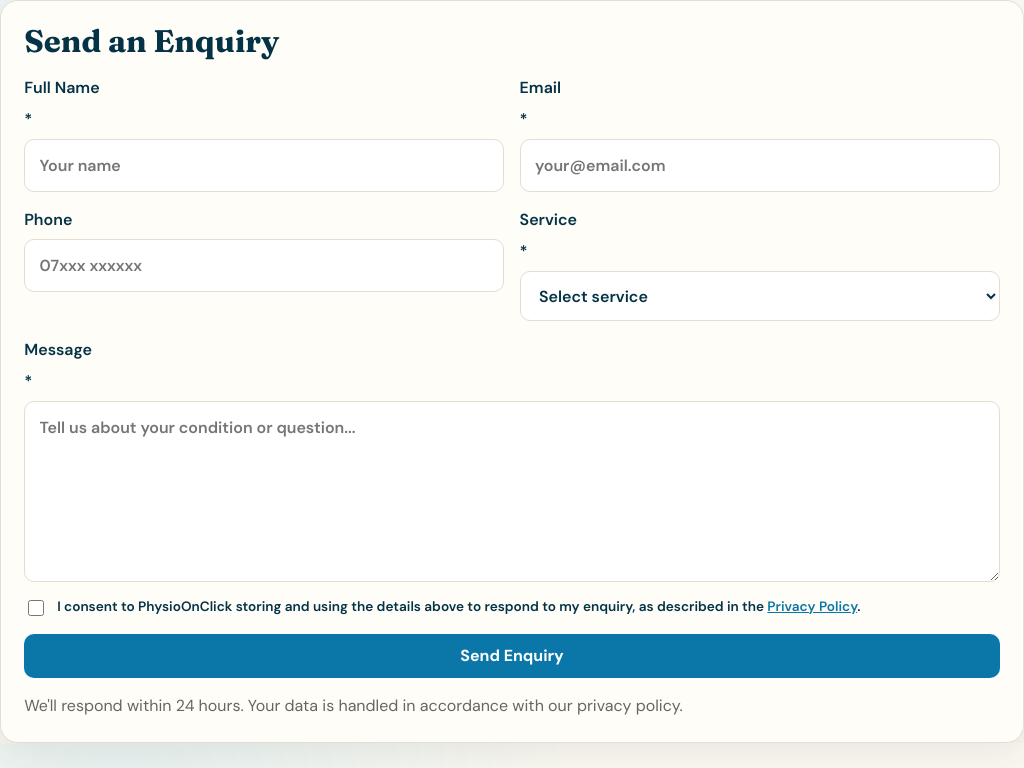
ContactForm › shows email success when the API sends the notification
In the field with placeholder "Your name": (264, 165) x1=24 y1=139 x2=504 y2=192, type "Test Patient"
In the field with placeholder "your@email.com": (760, 165) x1=520 y1=139 x2=1000 y2=192, type "patient@example.com"
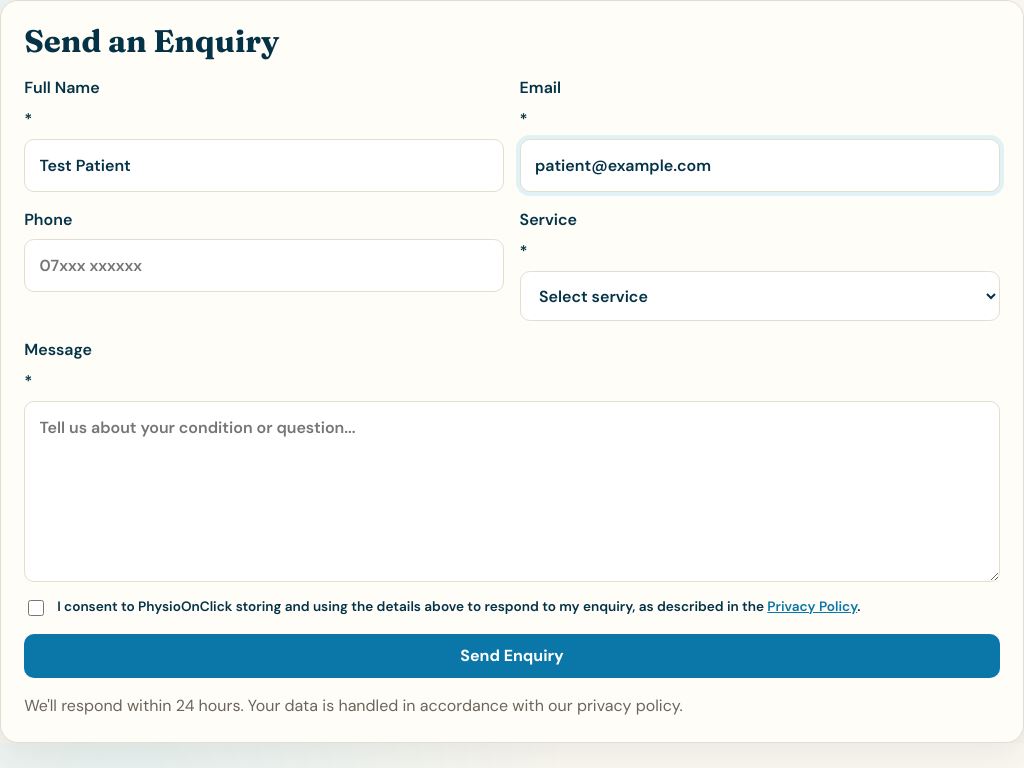
In the field with placeholder "07xxx xxxxxx": (264, 265) x1=24 y1=239 x2=504 y2=292, type "07721904401"
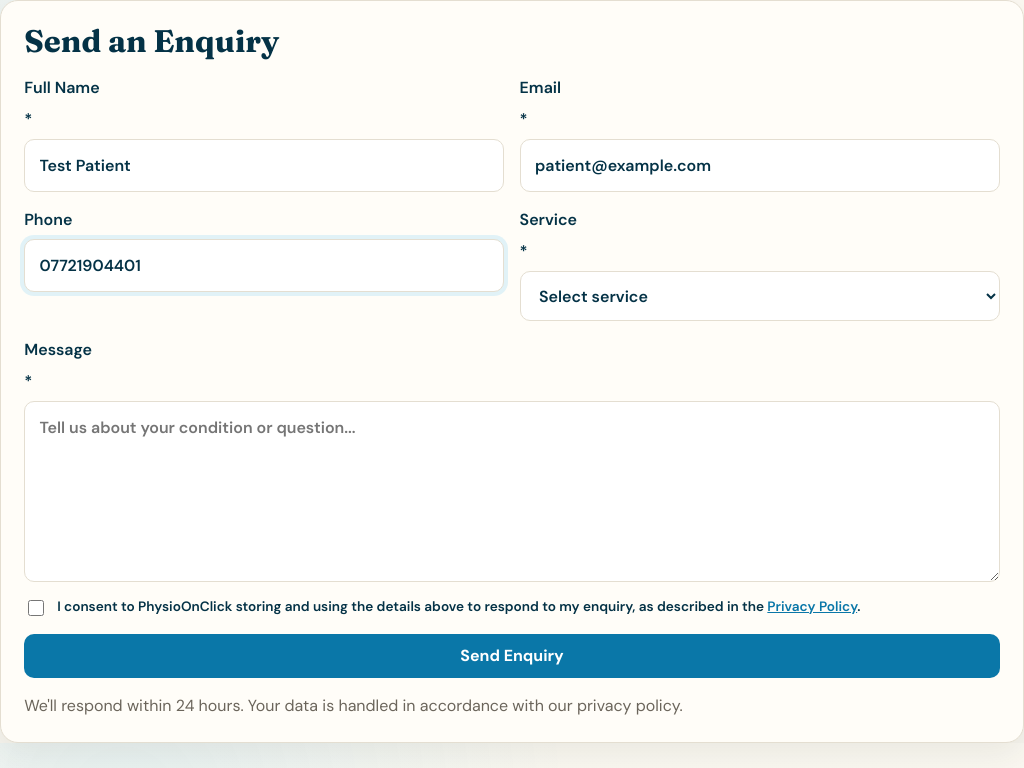
Select "Follow-Up Session" in the dropdown showing "Select service": (760, 296) x1=520 y1=272 x2=1000 y2=321
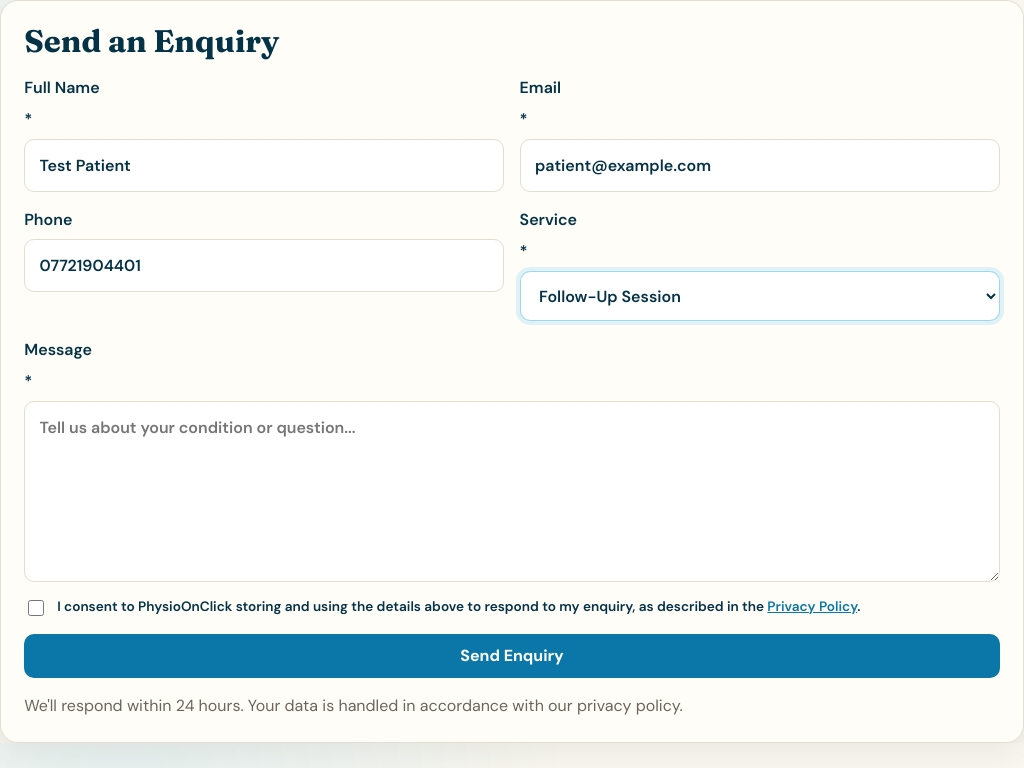
In the text box with placeholder "Tell us about your condition or question...": (512, 491) x1=24 y1=401 x2=1000 y2=582, type "This is a valid enquiry message with enough detail."
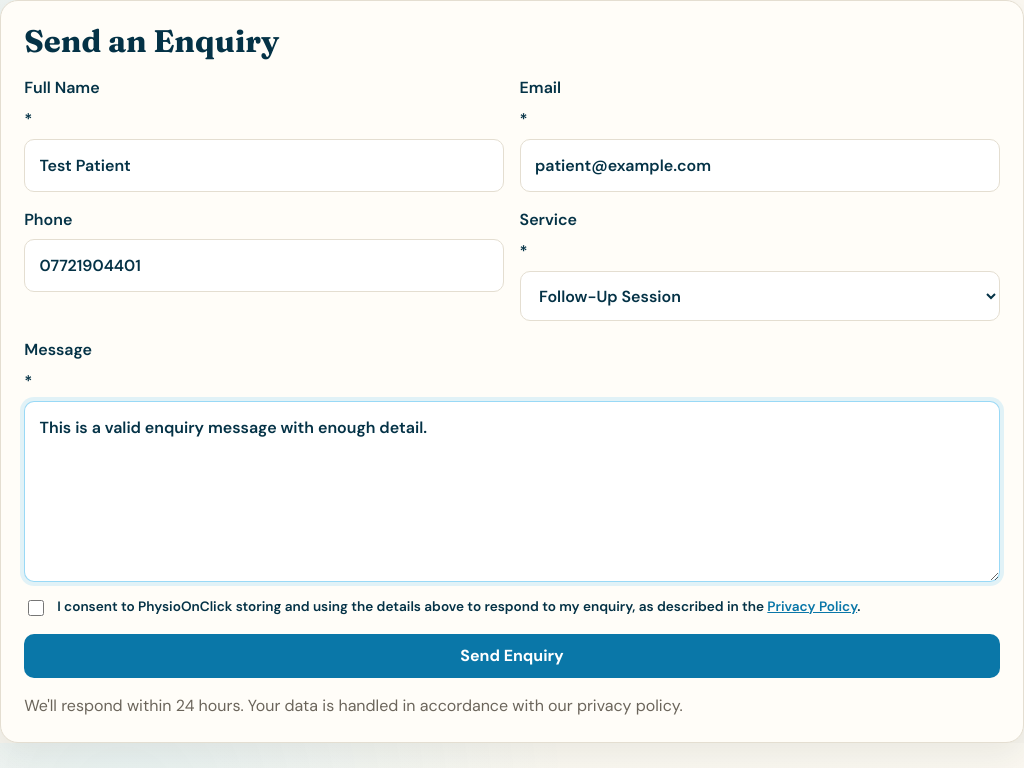
Click the checkbox labelled "I consent": click(36, 608) x1=28 y1=600 x2=44 y2=616
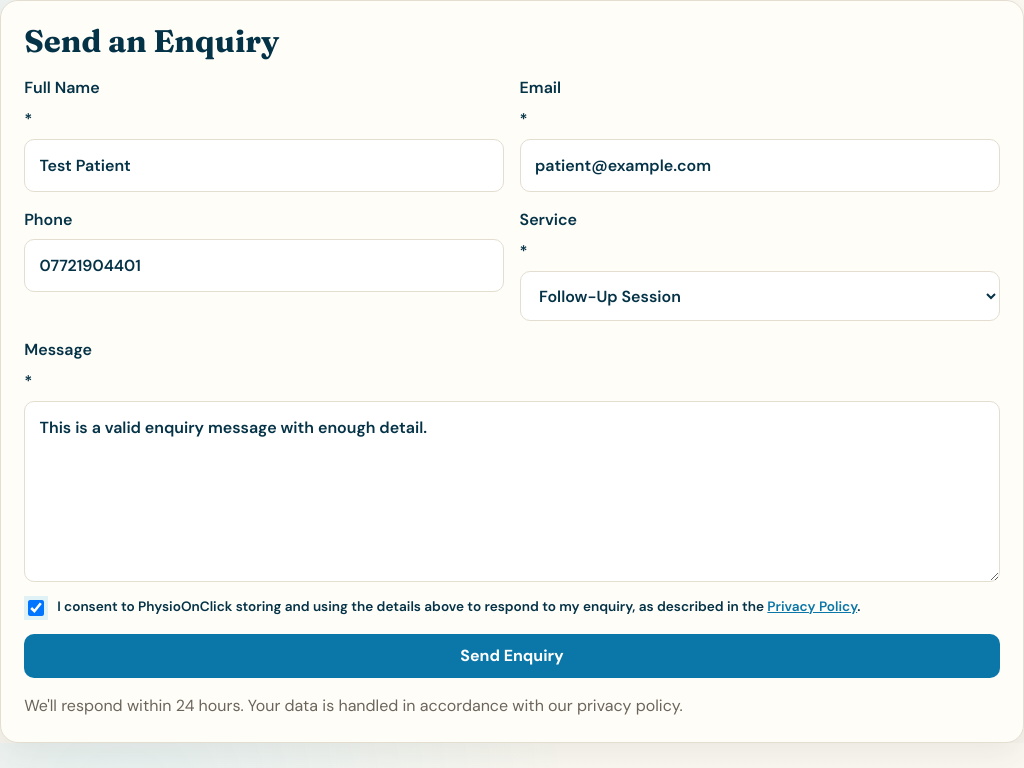
Click the button "Send Enquiry": click(512, 656) x1=24 y1=634 x2=1000 y2=678
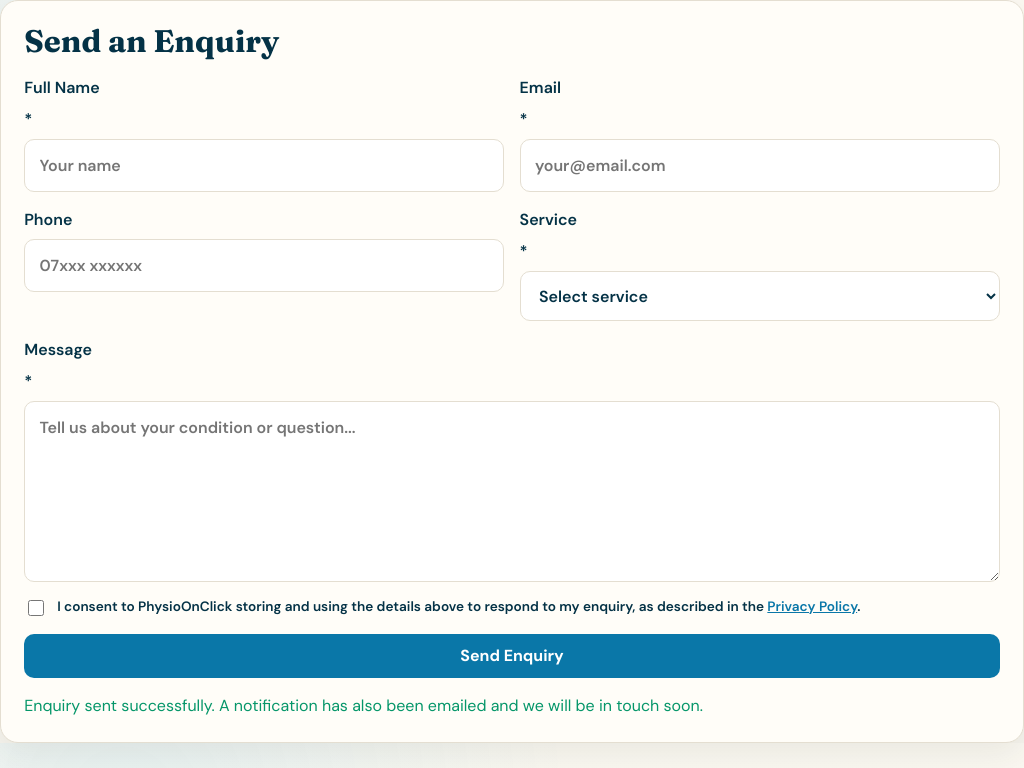
Now the text "notification has also been emailed" is shown, box x1=24 y1=695 x2=703 y2=716
